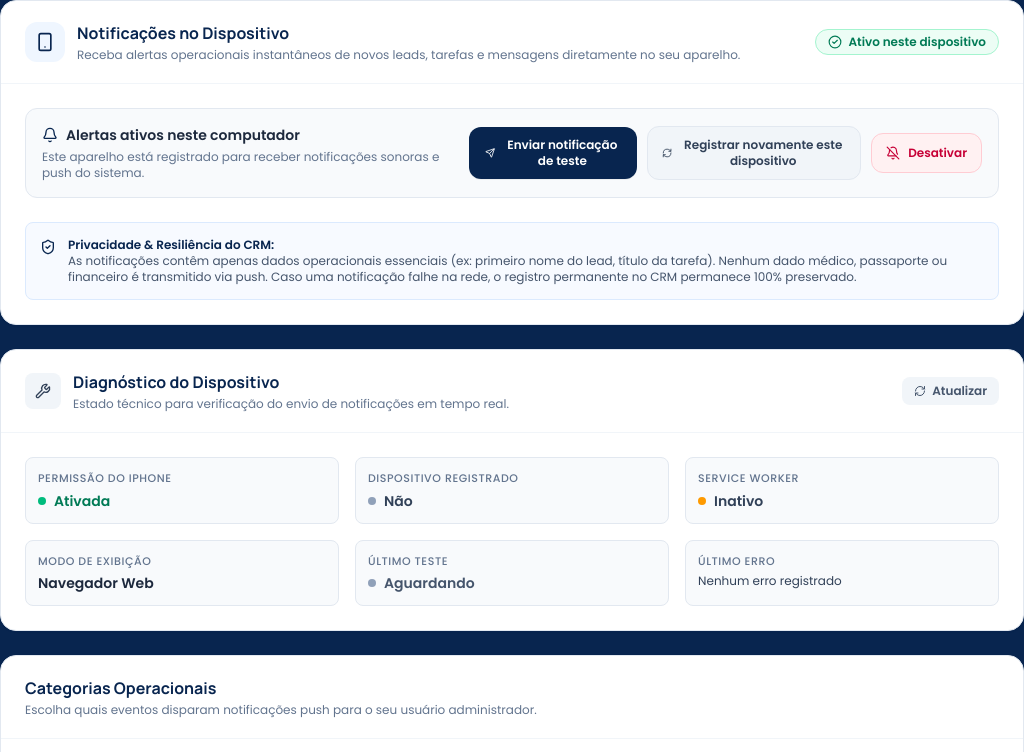
Scenario: EDS HUB — Settings Mobile Layout & Test Push Notification › Notification Settings — Test Push Action › shows failure state when push notification test send fails
Expected: the text "Enviar notificação de teste" is shown, [504,137,621,169]
Click the button with id "btn-test-push" at (553, 153), box [469,127,637,179]
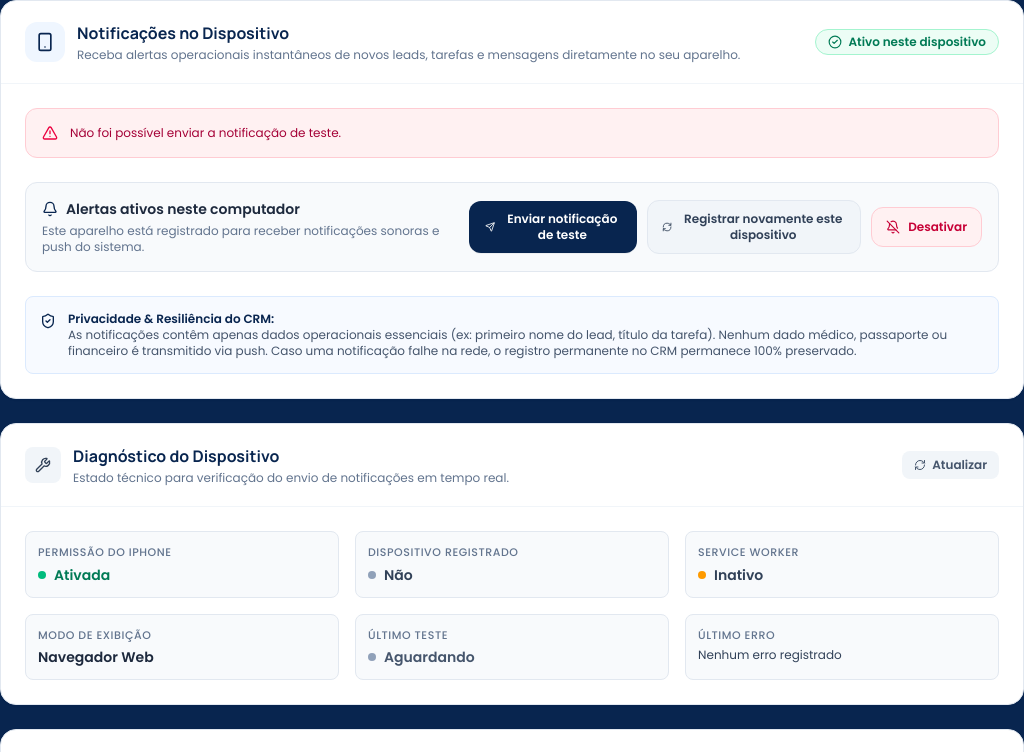
Result: the text "Não foi possível enviar a notificação de teste." is shown at [70,125,341,141]
